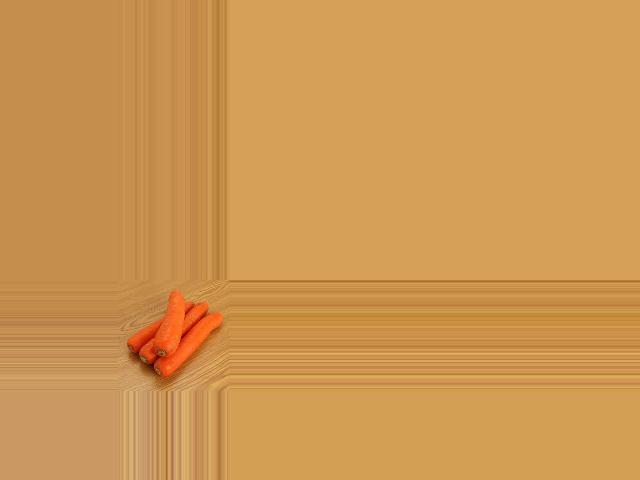carrot: (120, 306, 177, 356)
